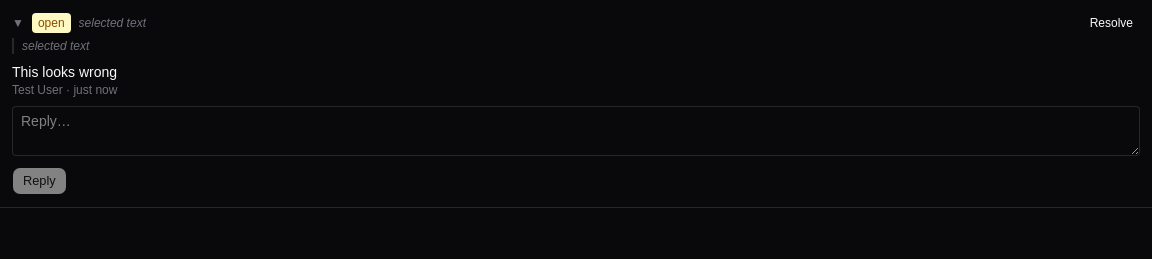
Test: CommentPanel › shows reply error on failed reply
In the text box labelled "Reply": (576, 131) [12,106,1140,156], type "My reply"
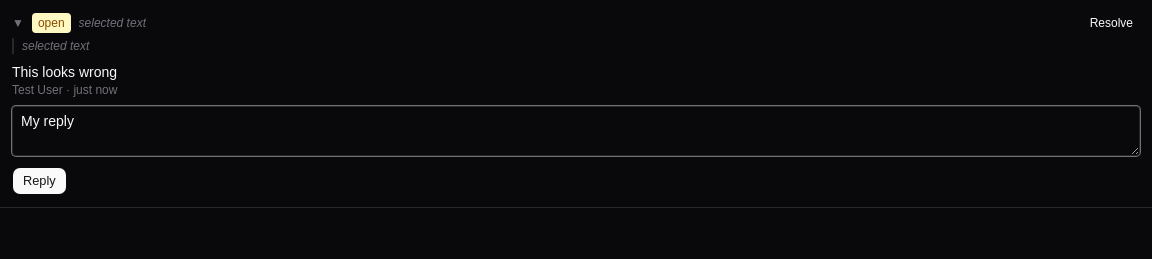
Click the button "Reply": (39, 181) [12,167,67,195]
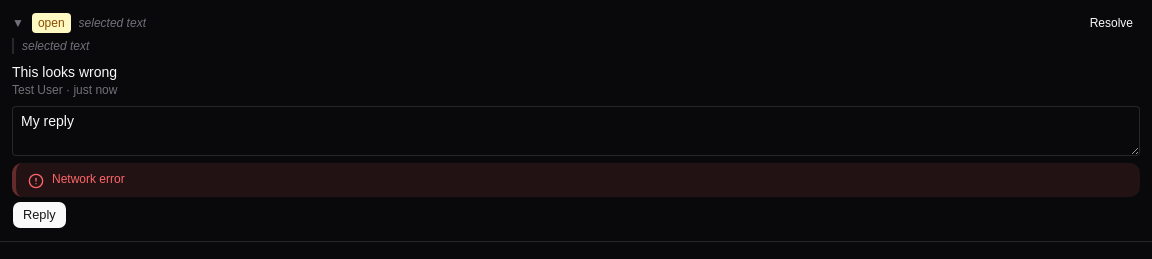
Result: the text "Network error" is shown at [52,172,125,186]
